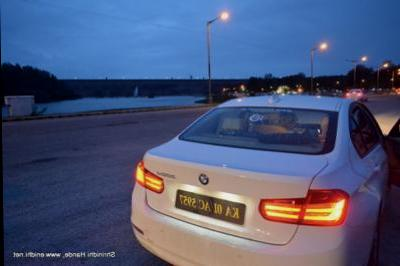License_Plate: (174, 183, 246, 231)
